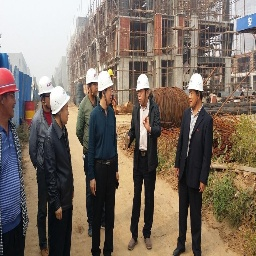helmet: (0, 63, 20, 109), (49, 85, 71, 116), (187, 71, 204, 108), (134, 71, 152, 104), (97, 71, 116, 100), (36, 72, 53, 103), (84, 66, 100, 92)
no-vest: (0, 120, 26, 232), (44, 121, 74, 208), (181, 106, 212, 187), (90, 105, 119, 174), (133, 104, 159, 159)
person: (175, 72, 212, 256), (130, 74, 164, 256), (90, 70, 122, 256), (44, 85, 77, 256), (0, 63, 29, 256)
